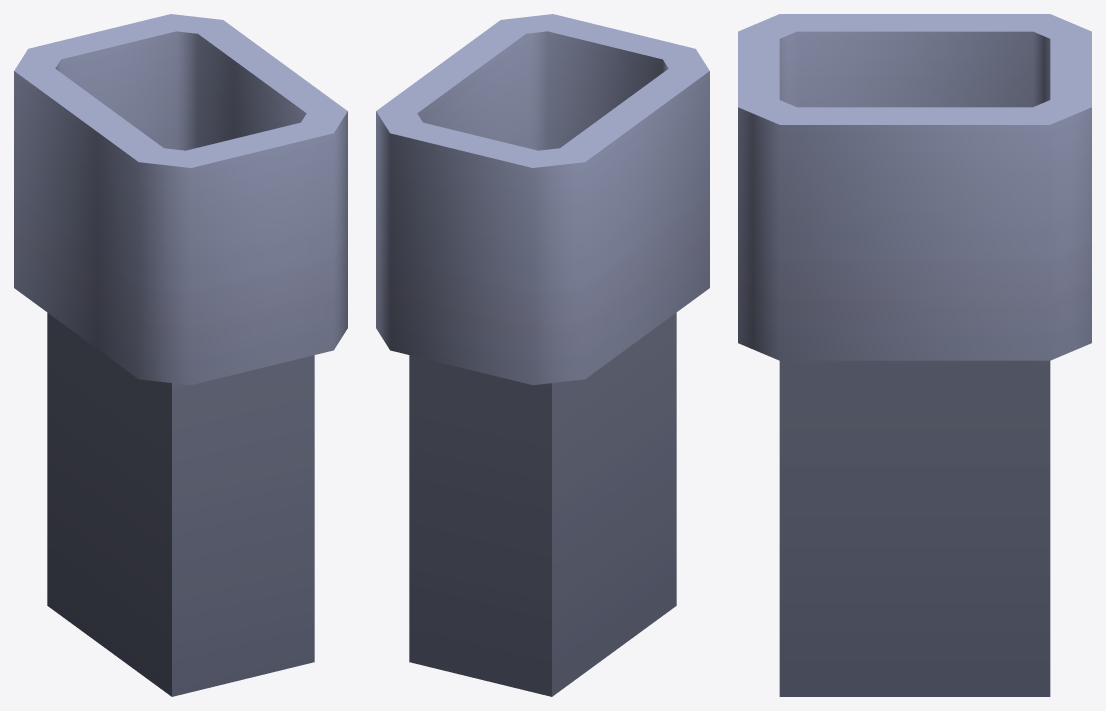
File: chimney-top.glb
3 views of the same model, side by side, from view 1: azimuth 30°, elevation 25°; view 2: azimuth 150°, elevation 25°; view 3: azimuth 270°, elevation 25° (orthographic). The views are drawn at different scales.
Parts seen in each view (by area): view 1: chimney-top; view 2: chimney-top; view 3: chimney-top.
Boxes of the visible parts, bbox=[...] form: chimney-top: bbox=[14, 14, 347, 696]; chimney-top: bbox=[376, 14, 709, 696]; chimney-top: bbox=[738, 14, 1091, 696].
Bounding box in the file's own units: 0.2519 × 0.625 × 0.34.
Materials: 1 (1 with a texture image).
